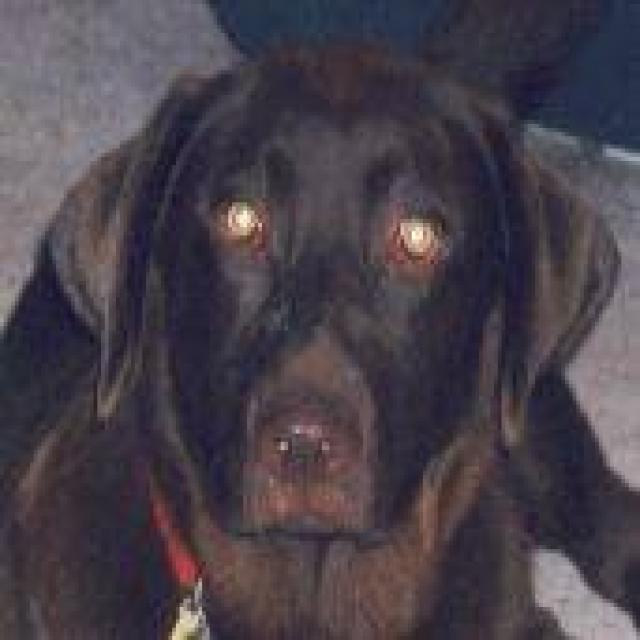dog: (0, 37, 636, 635)
